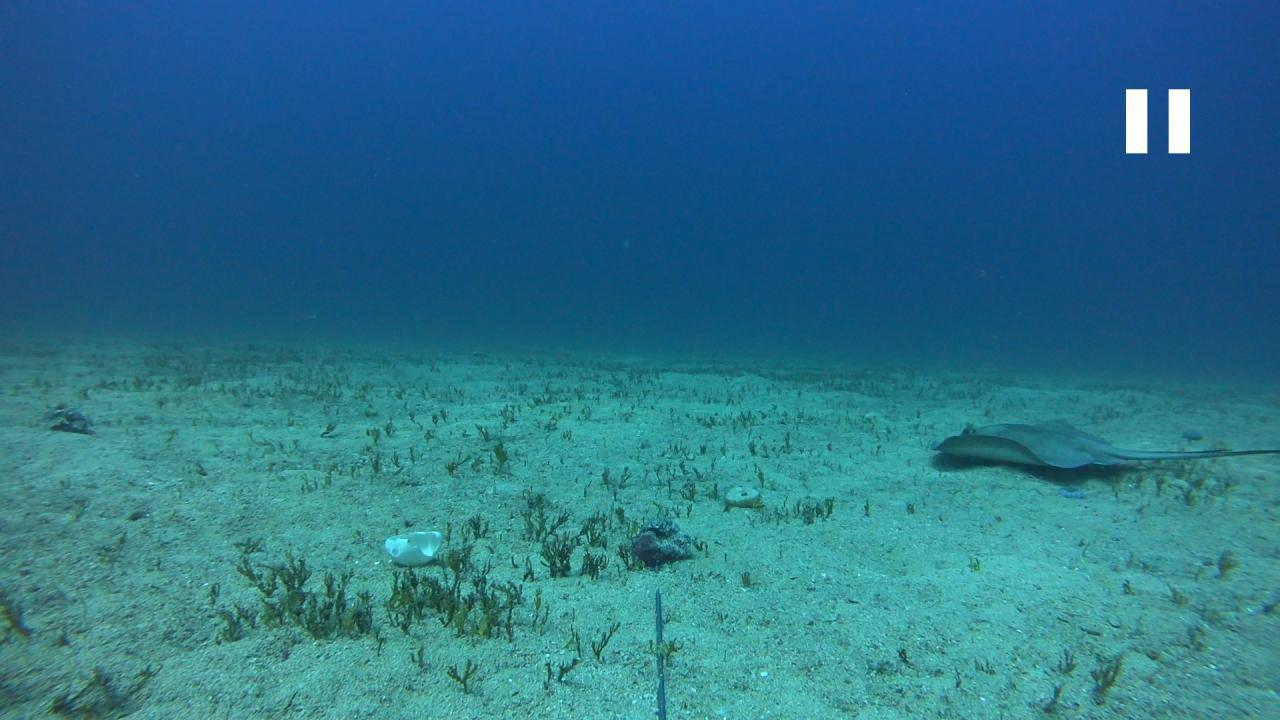dasyatis: (928, 416, 1280, 469)
